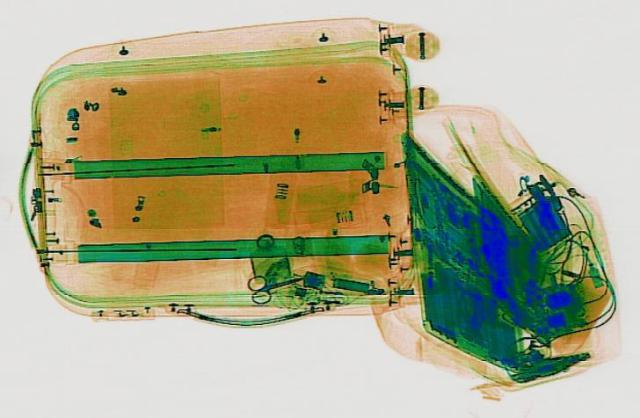Scissors: (236, 264, 314, 304)
